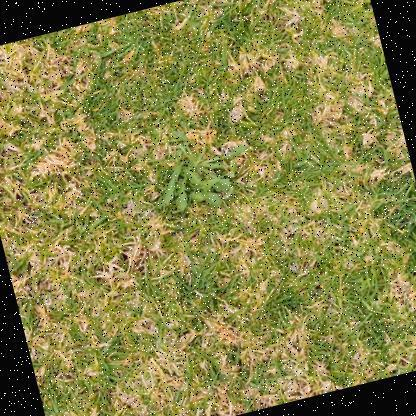Weeds: (149, 115, 261, 219)
